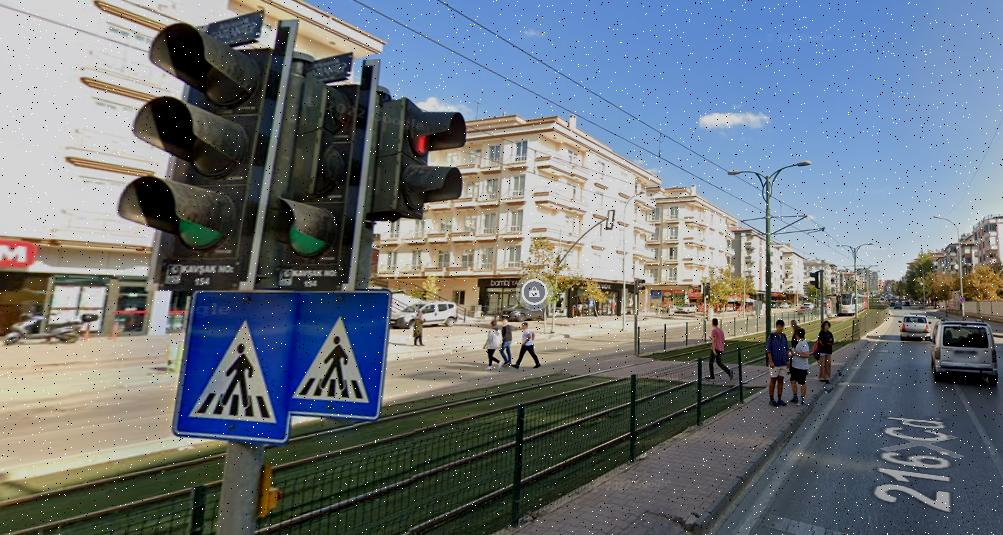greenlight: (144, 22, 253, 289)
